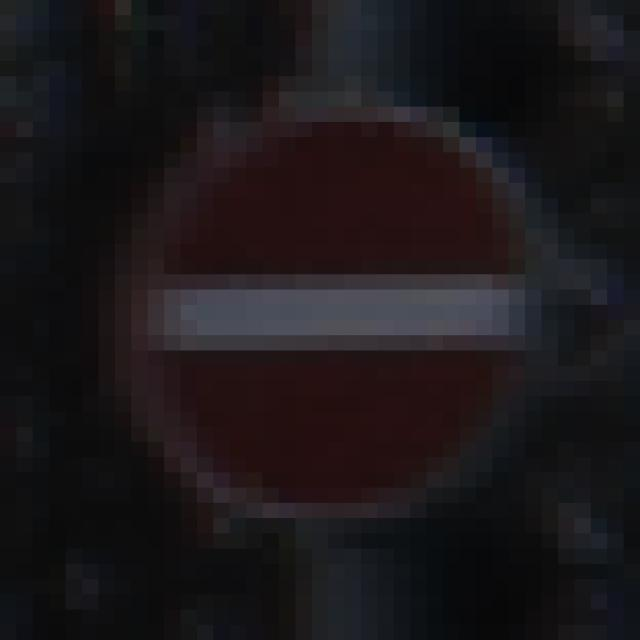No Entry: (83, 77, 559, 565)
